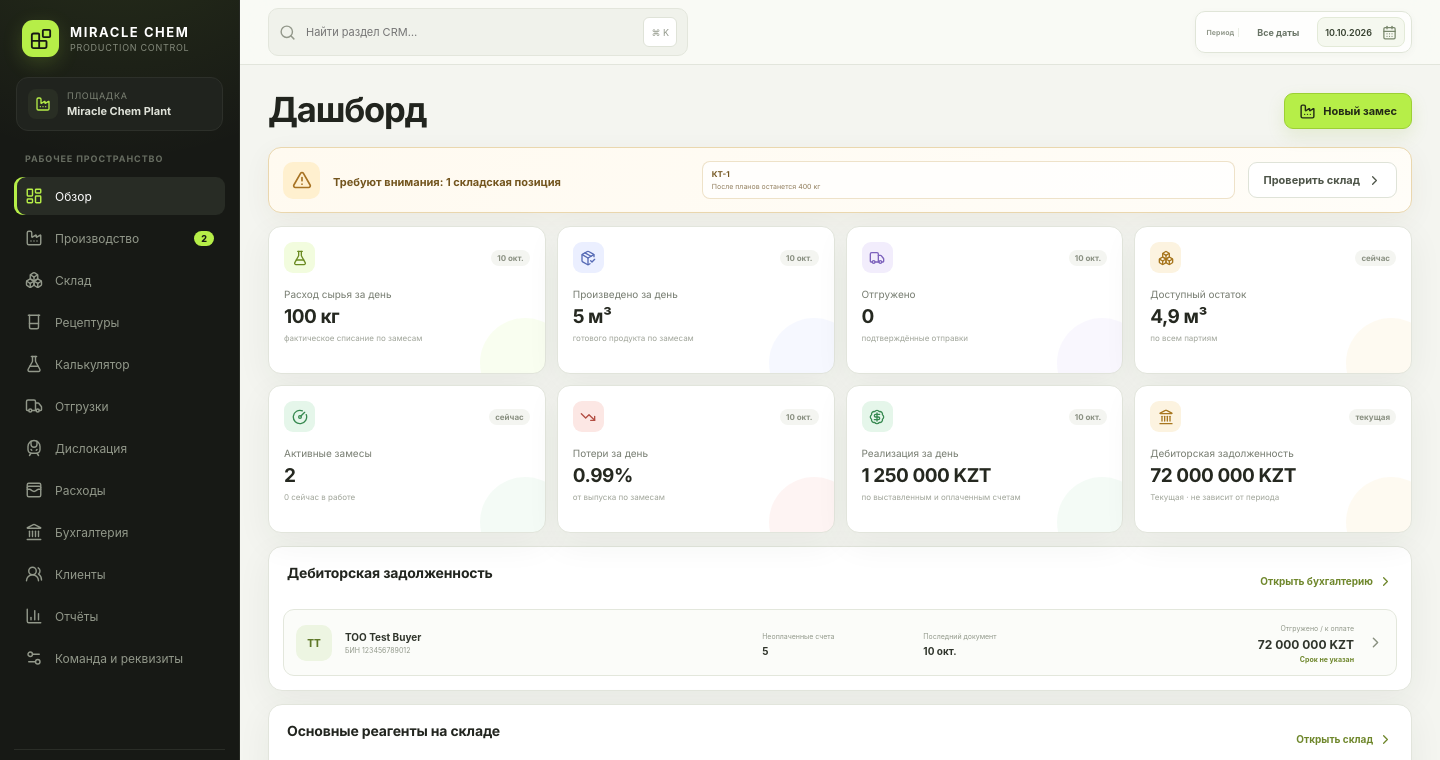
Test: Miracle Chem app shell › opens the dedicated goods receipt power of attorney form
The width and height of the screenshot is (1440, 760).
Expected: the text "Произведено за день" is shown, [573,289,678,301]
Click the button "Бухгалтерия". click: (120, 532)
box: [14,513,225,551]
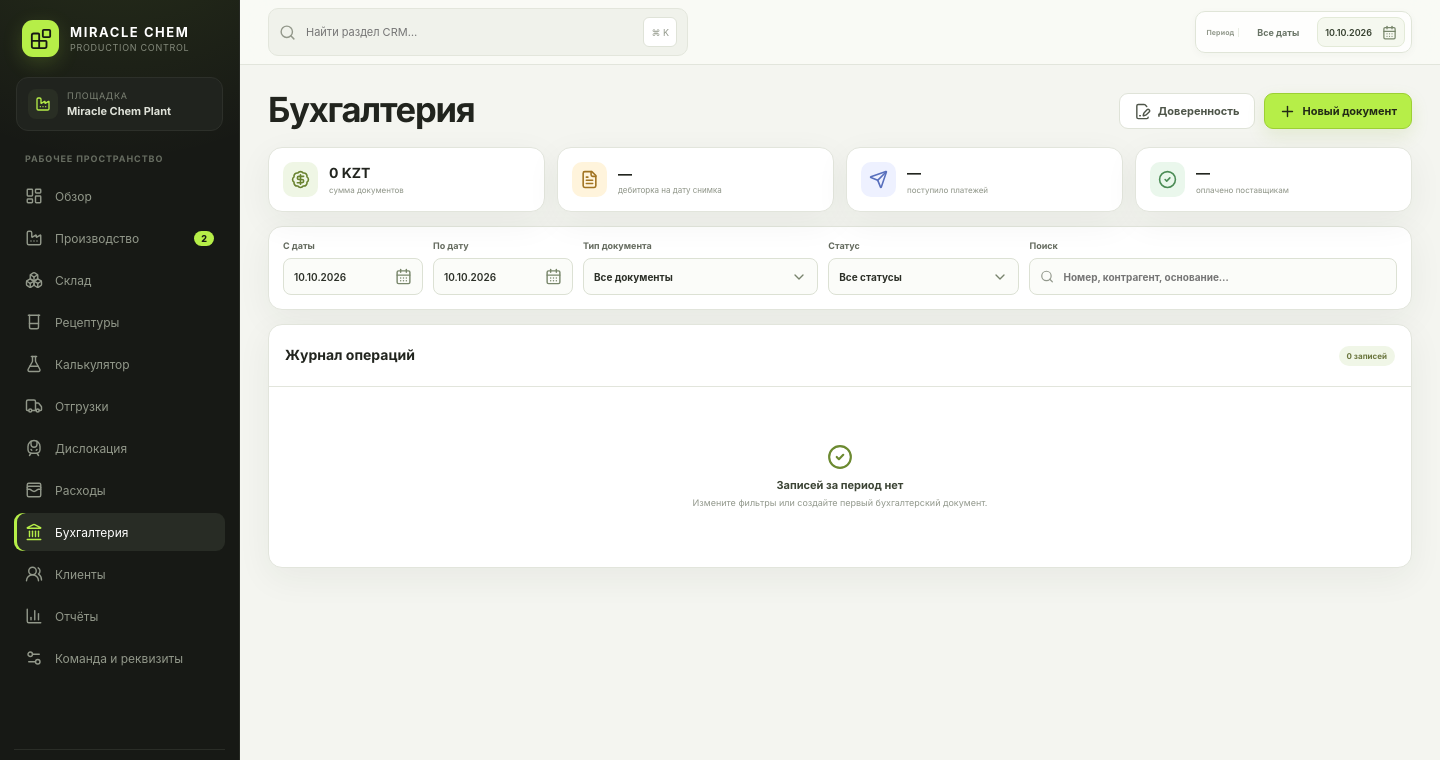
Expected: the heading "Бухгалтерия" is shown, [268,93,475,129]
Click the button "Доверенность". click: (1187, 111)
box: [1119,93,1255,129]
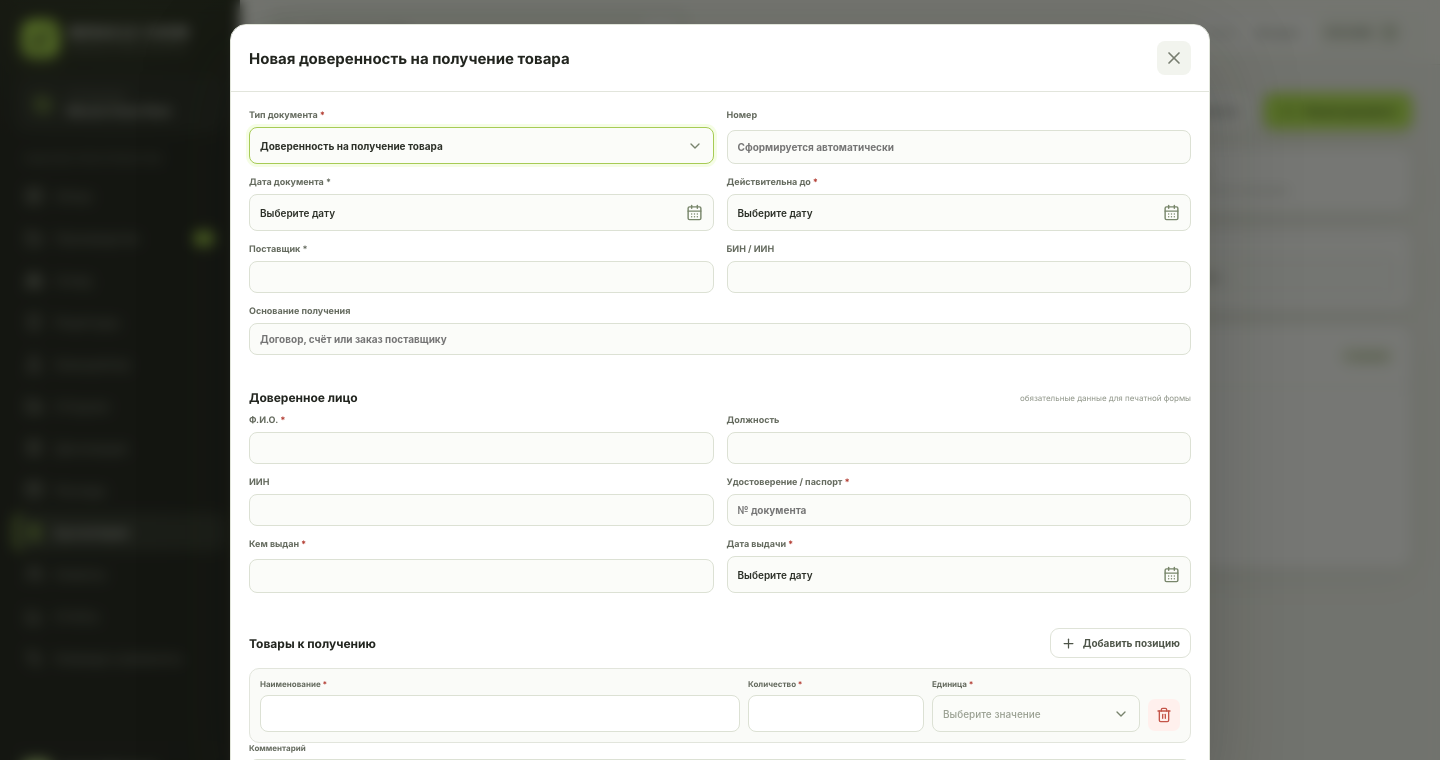
Expected: the heading "Доверенное лицо" is shown, [249,390,358,405]
Expected: the heading "Товары к получению" is shown, [249,636,376,650]
Expected: the button with aria-label "Срок действия доверенности" is shown, [726,194,1191,231]
